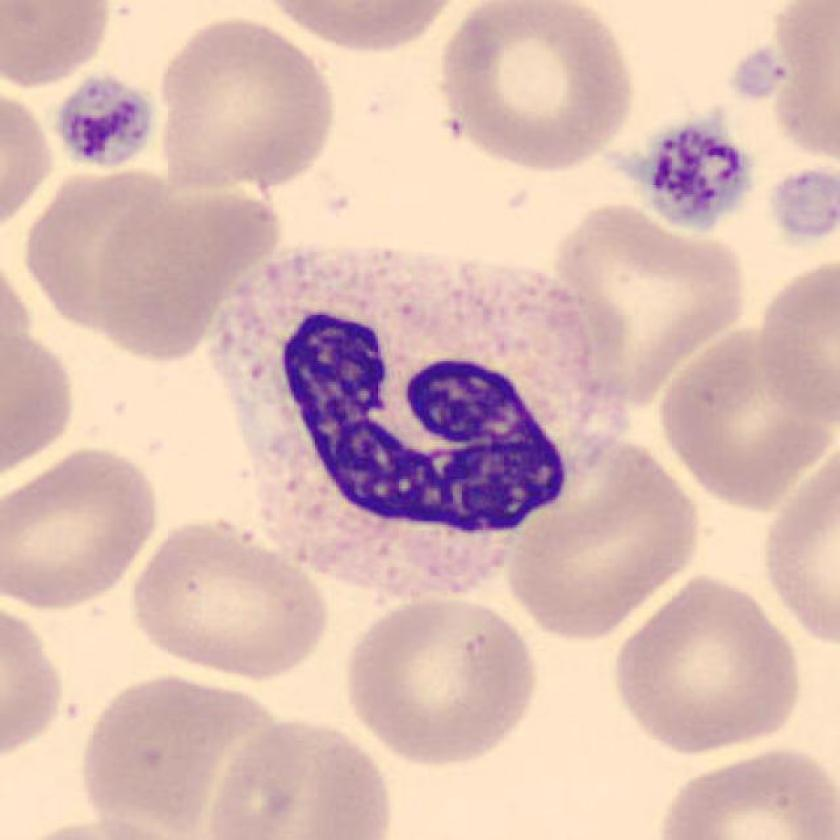neutrophil: (214, 240, 594, 593)
